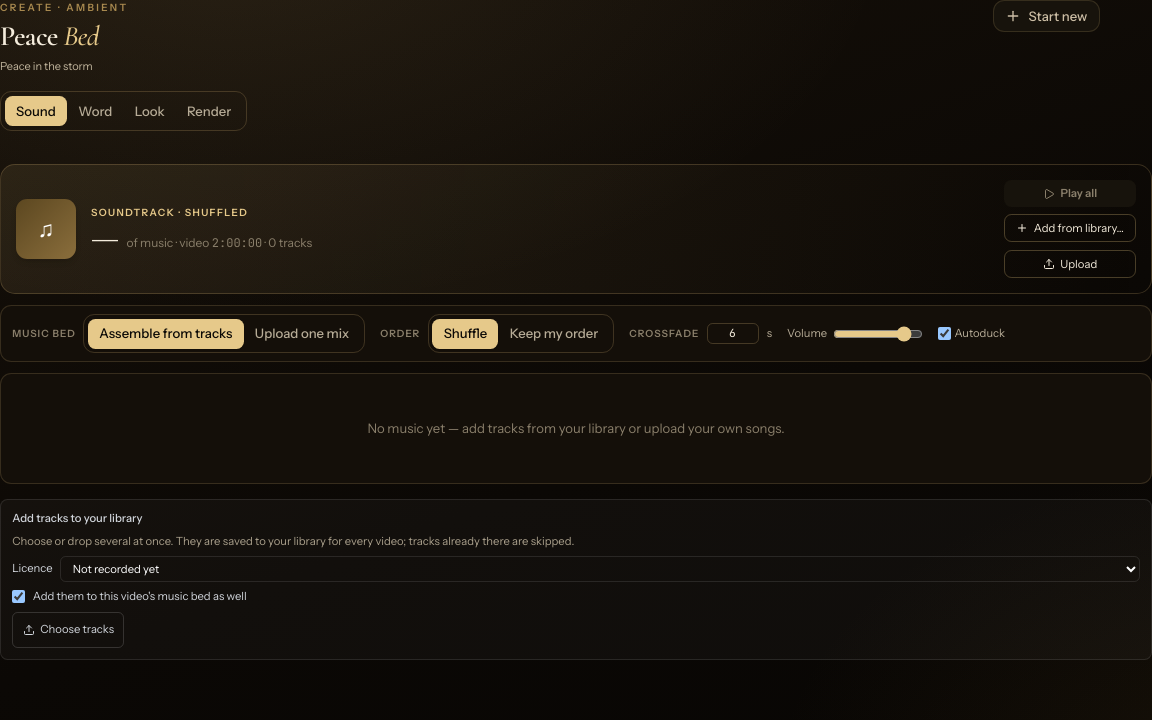
it: AmbientPage › keeps Start new beside the title and gives the step tabs their own scrolling row
What coordinates should you click on to do the following:
click the button "Start new"
I would click on:
 (1046, 16)
Its box is left=993, top=0, right=1100, bottom=32.
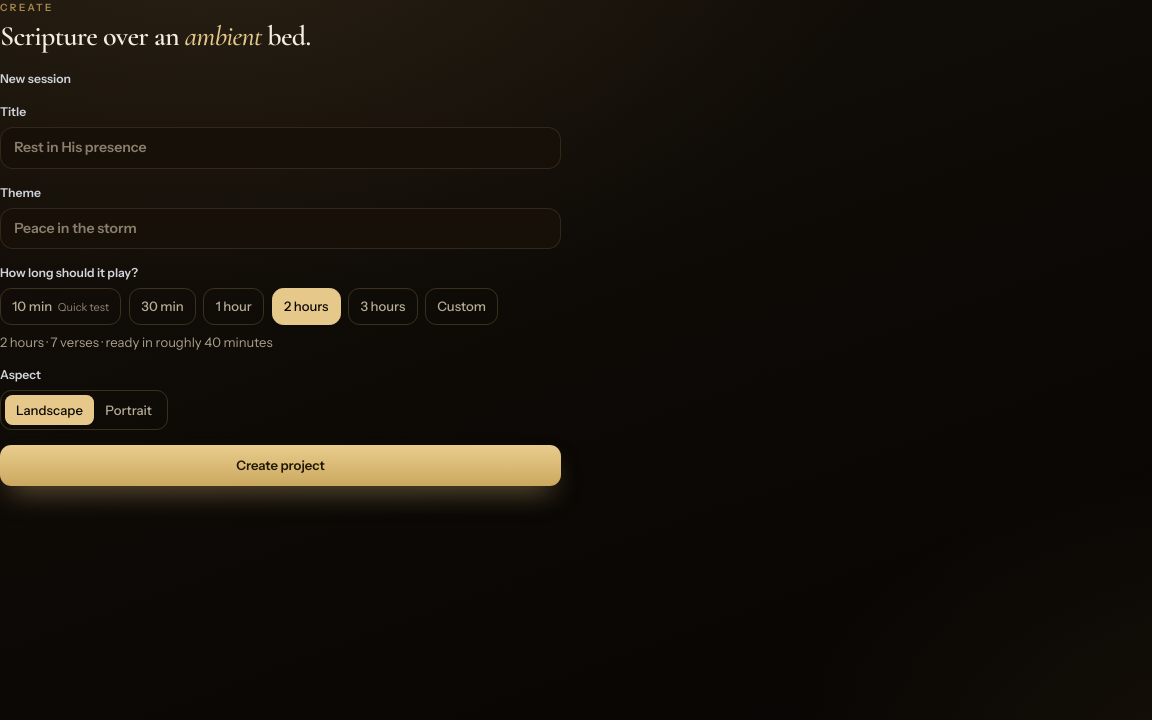
Now the field labelled "Theme" is shown, box left=0, top=208, right=561, bottom=249
